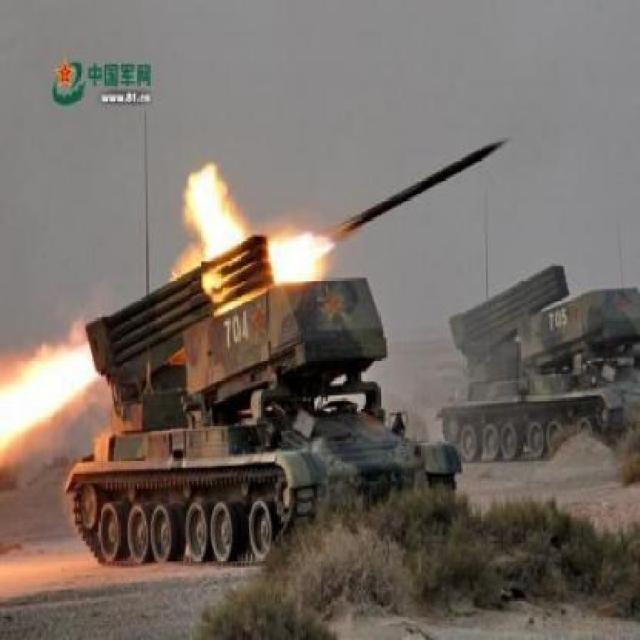Fire: (0, 323, 91, 460), (168, 155, 248, 256), (258, 217, 338, 288)
